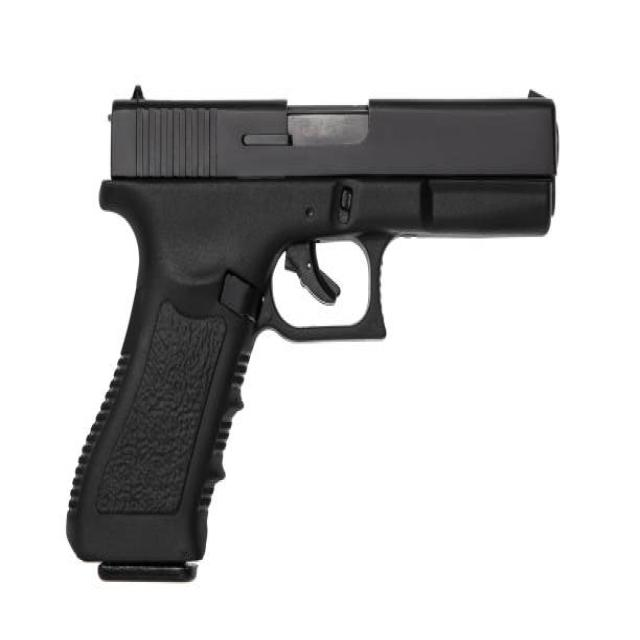pistol: (62, 74, 565, 594)
